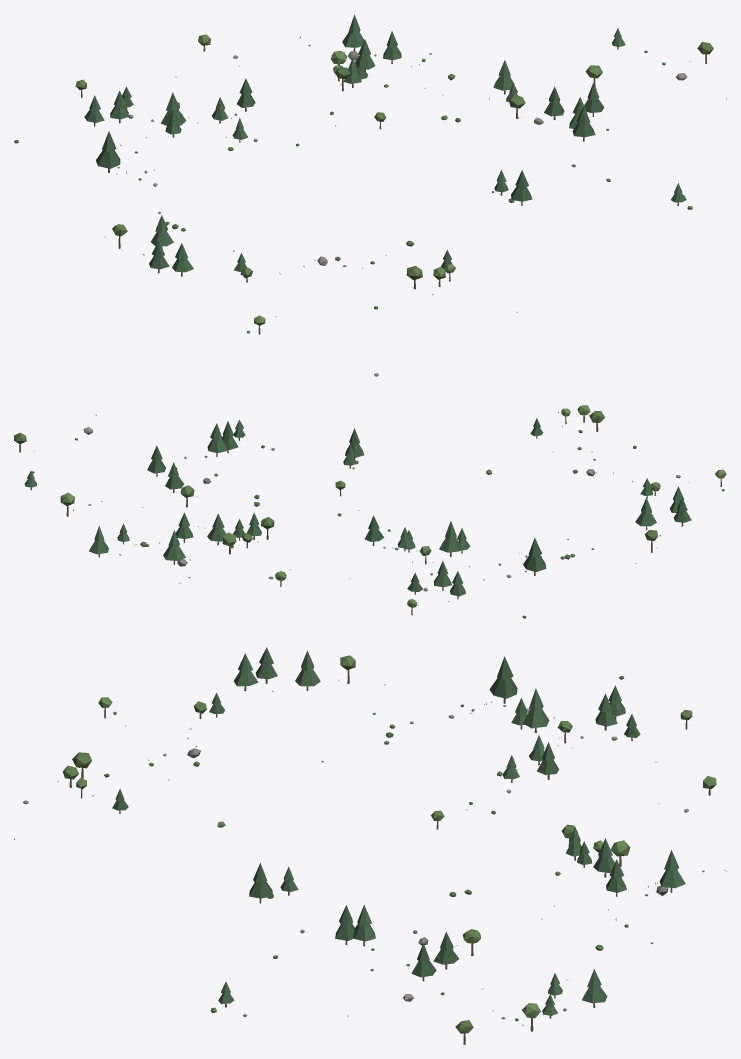
The model's file is arch_land_scatter_c18_18_lod1.glb.
3 renders of one model, top to bottom at view 1: azimuth 30°, elevation 25°; view 2: azimuth 150°, elevation 25°; view 3: azimuth 270°, elevation 25°, orthographic. The views are drawn at different scales.
Parts seen in each view (by area): view 1: arch_land_scatter_c18_18_lod1; view 2: arch_land_scatter_c18_18_lod1; view 3: arch_land_scatter_c18_18_lod1.
Part boxes in pixels (x1,y1,x2,y2): arch_land_scatter_c18_18_lod1: [14, 14, 726, 376]; arch_land_scatter_c18_18_lod1: [14, 405, 726, 618]; arch_land_scatter_c18_18_lod1: [14, 647, 726, 1044].
Size of the model in its own units: 259 by 43.15 by 218.
